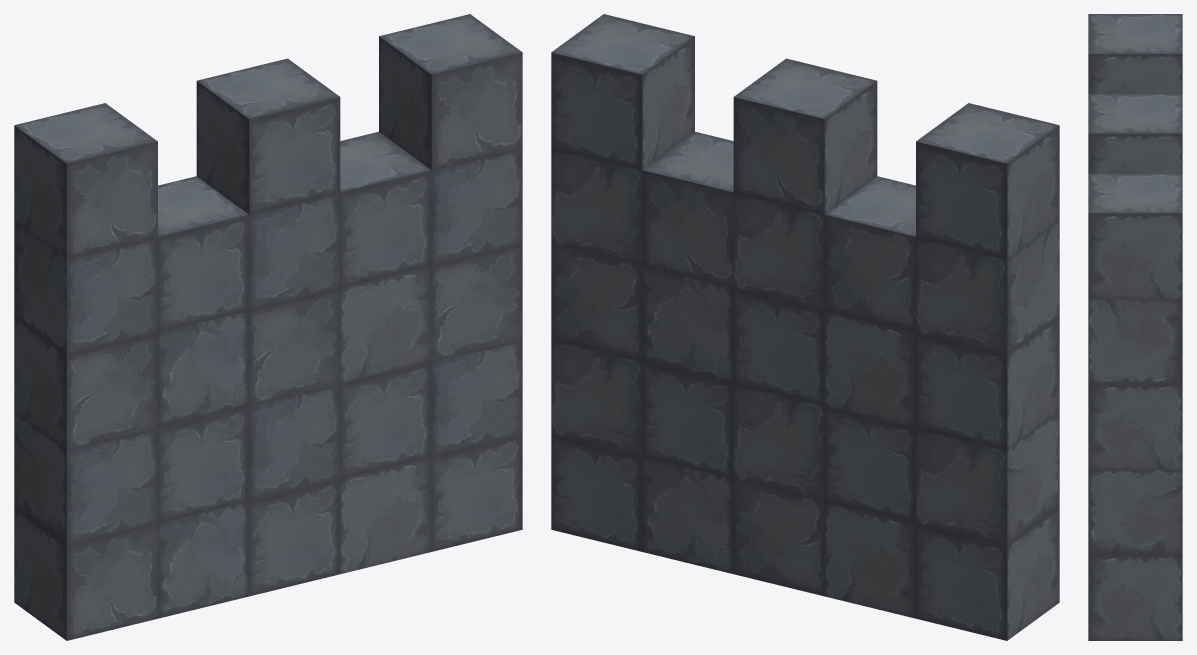
Rendered from Castle Deco 7.fbx.
3 renders of one model, left to right at view 1: azimuth 30°, elevation 25°; view 2: azimuth 150°, elevation 25°; view 3: azimuth 270°, elevation 25°, orthographic. The views are drawn at different scales.
Parts seen in each view (by area): view 1: Castle Deco 7; view 2: Castle Deco 7; view 3: Castle Deco 7.
Boxes of the visible parts, x1=… form: Castle Deco 7: x1=14, y1=14, x2=522, y2=640; Castle Deco 7: x1=551, y1=14, x2=1059, y2=640; Castle Deco 7: x1=1088, y1=14, x2=1182, y2=640.
Size of the model in its own units: 3.75 by 3.75 by 0.75.
